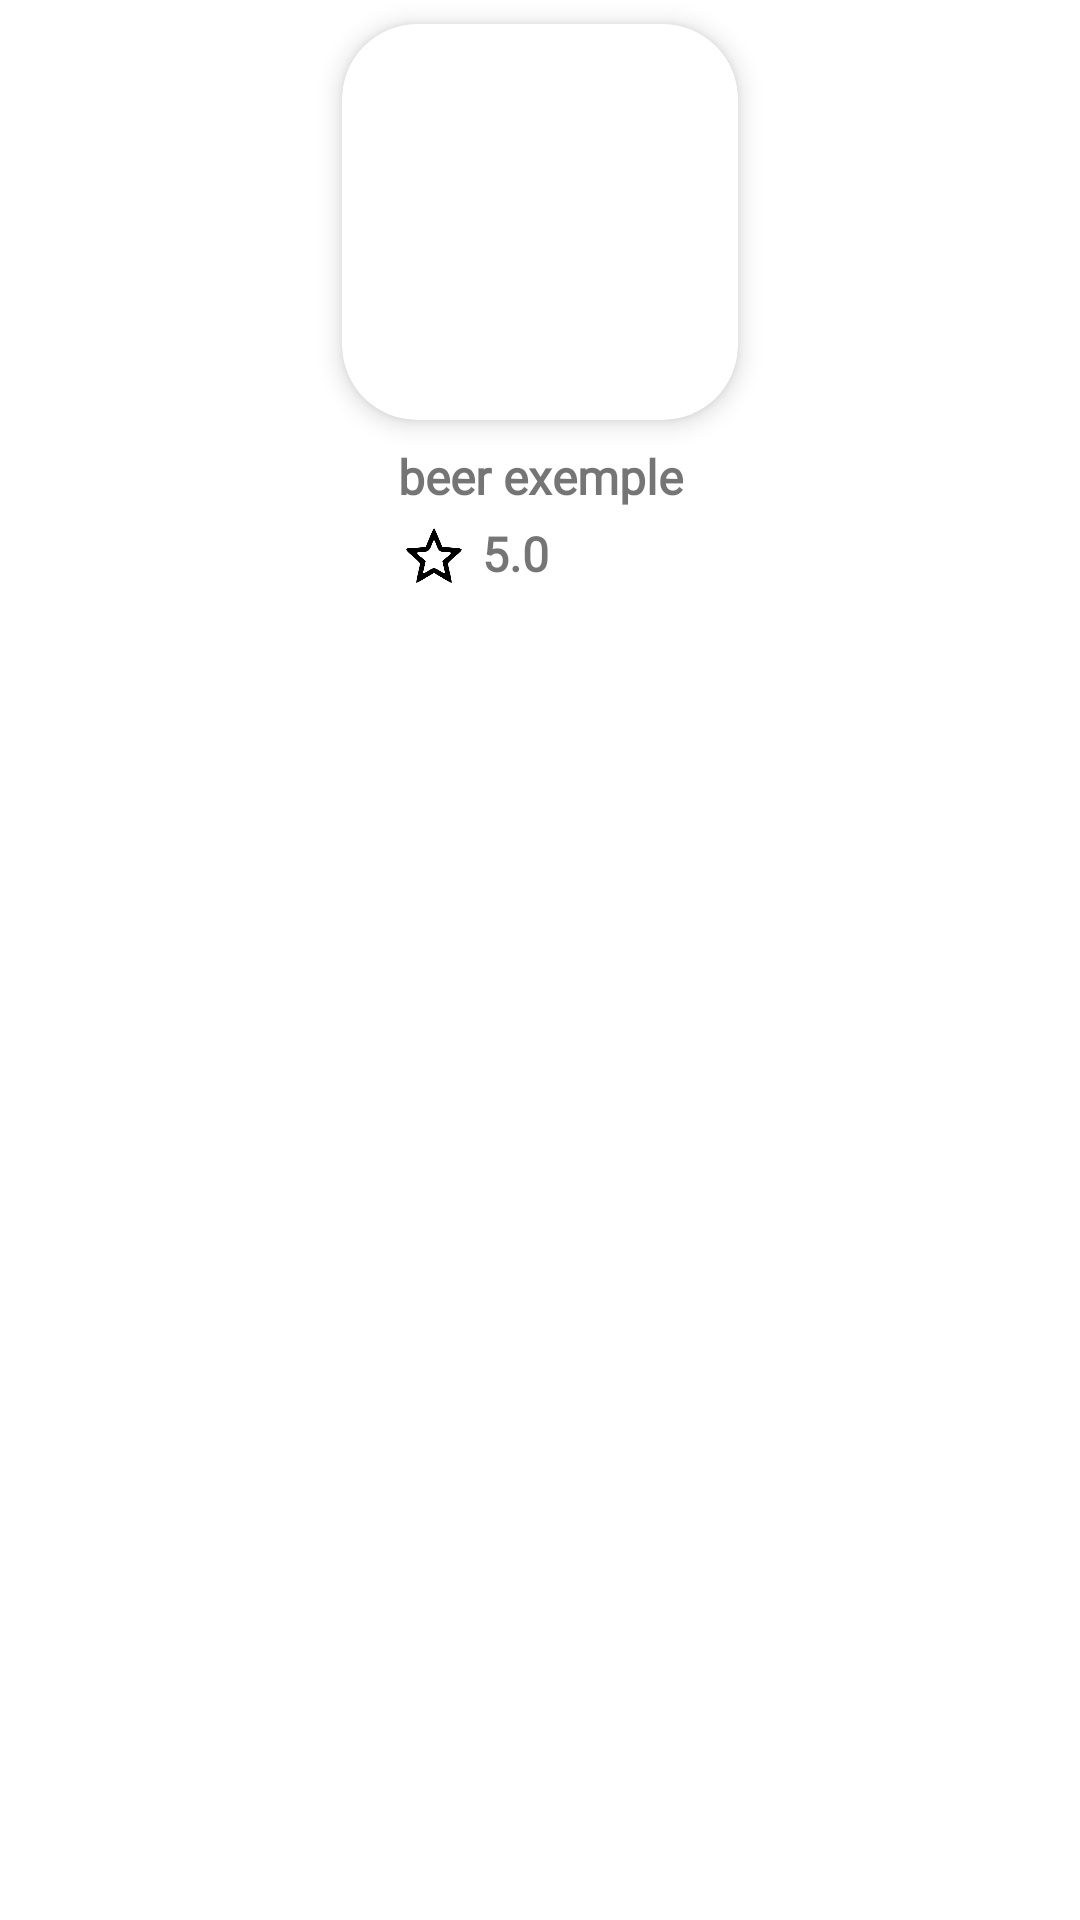

Icon click points for this 1080×1920 phone screenshot, format (x=x, y=y):
star border: (x=434, y=555)
